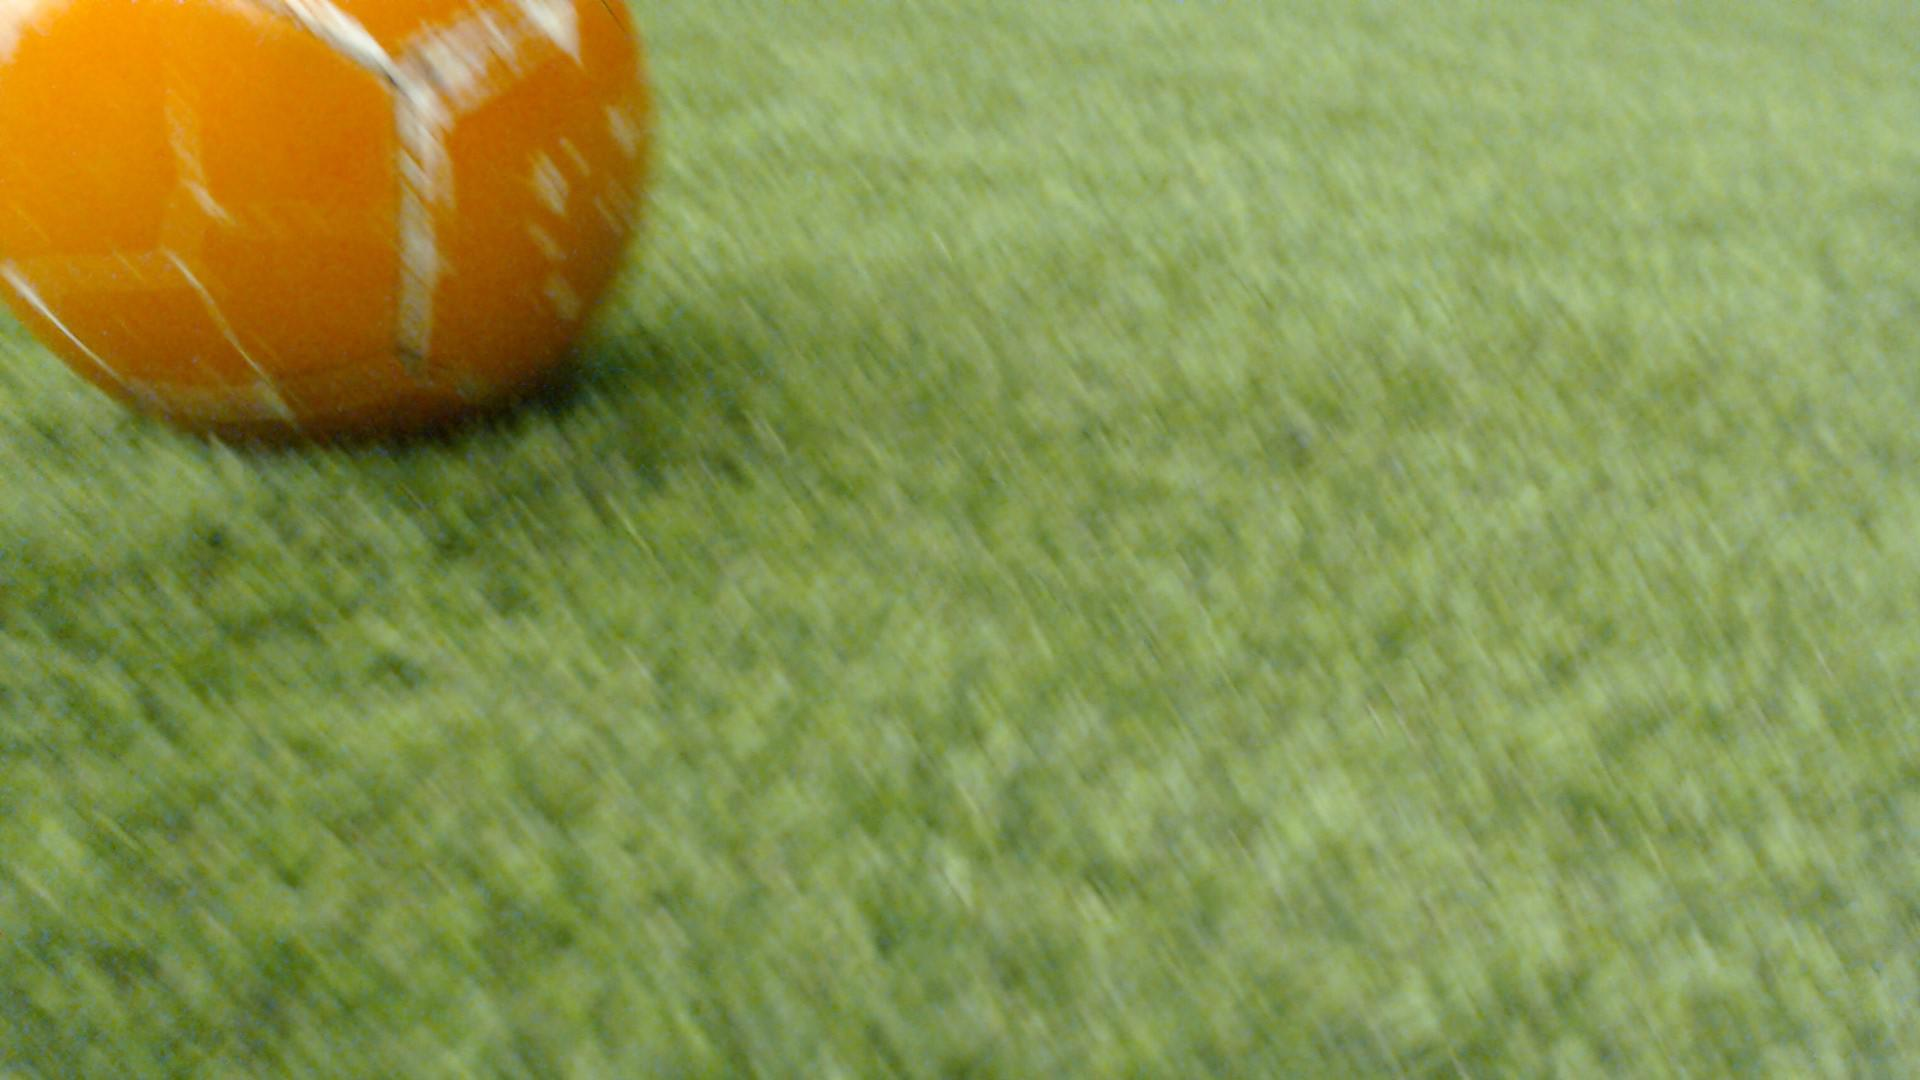bola: (0, 3, 723, 493)
